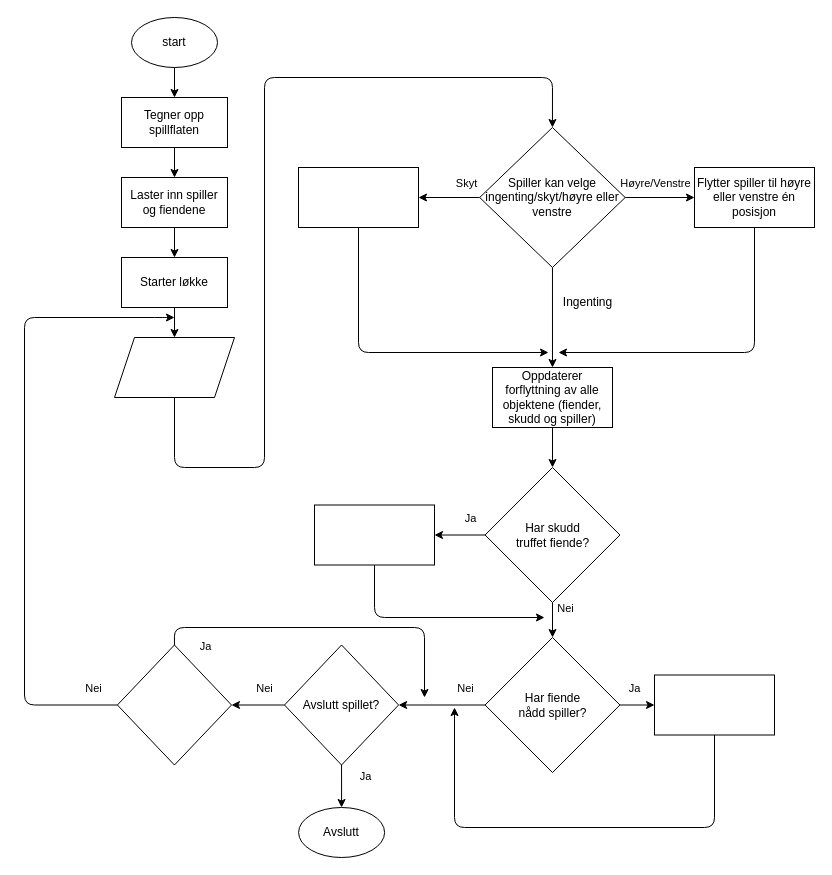
Some shapes in this 832 by 875 pixel diagram are drawn without their labels. The centre of each missing label's shape, as x and y in pixels:
Avfyrer skudd fra spillers posisjon: point (358, 197)
Game over?: point (174, 704)
Lytter til input fra spiller: point (174, 367)
Resetter truffet fiende og skudd settes tilbake til spiller: point (374, 534)
Stop spill og vis "game over": point (714, 704)
